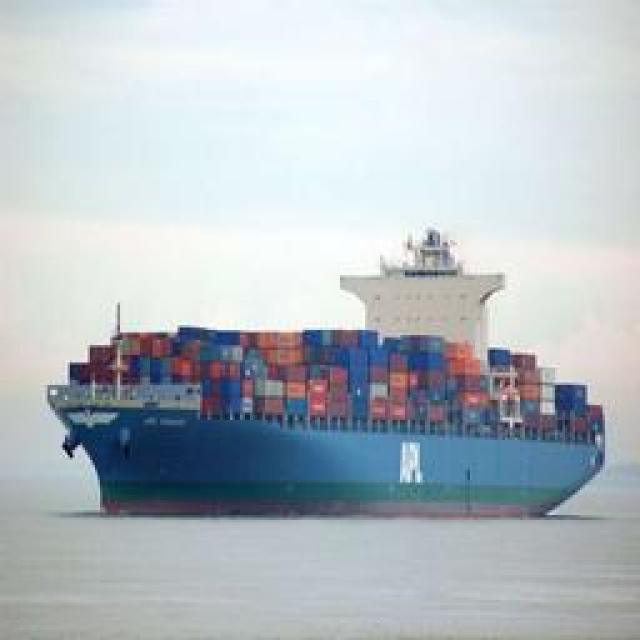ship2: (44, 228, 605, 523)
